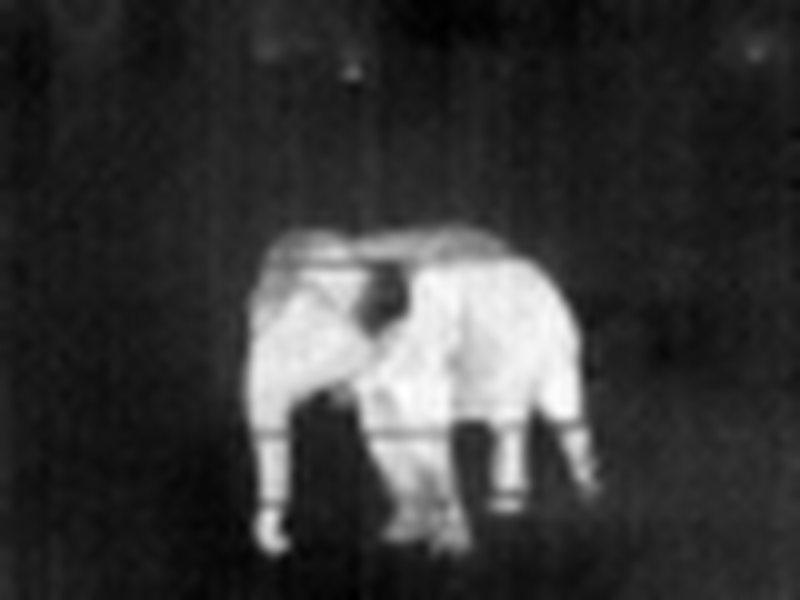elephant: (244, 223, 614, 543)
